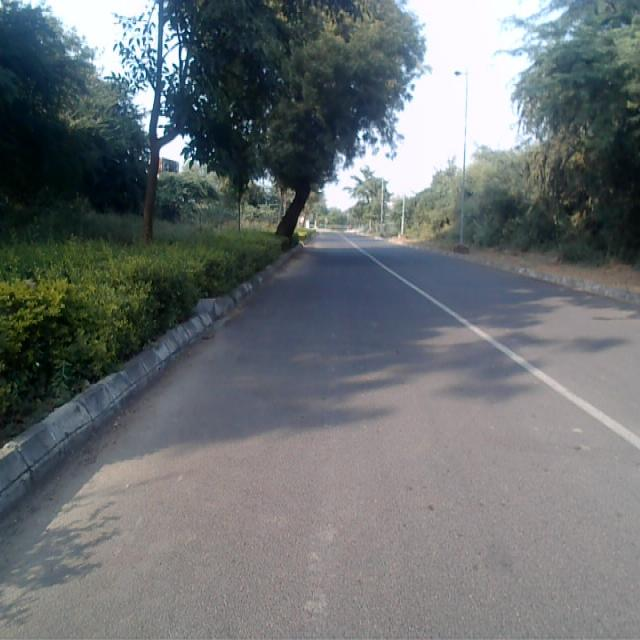lane: (0, 234, 640, 640)
